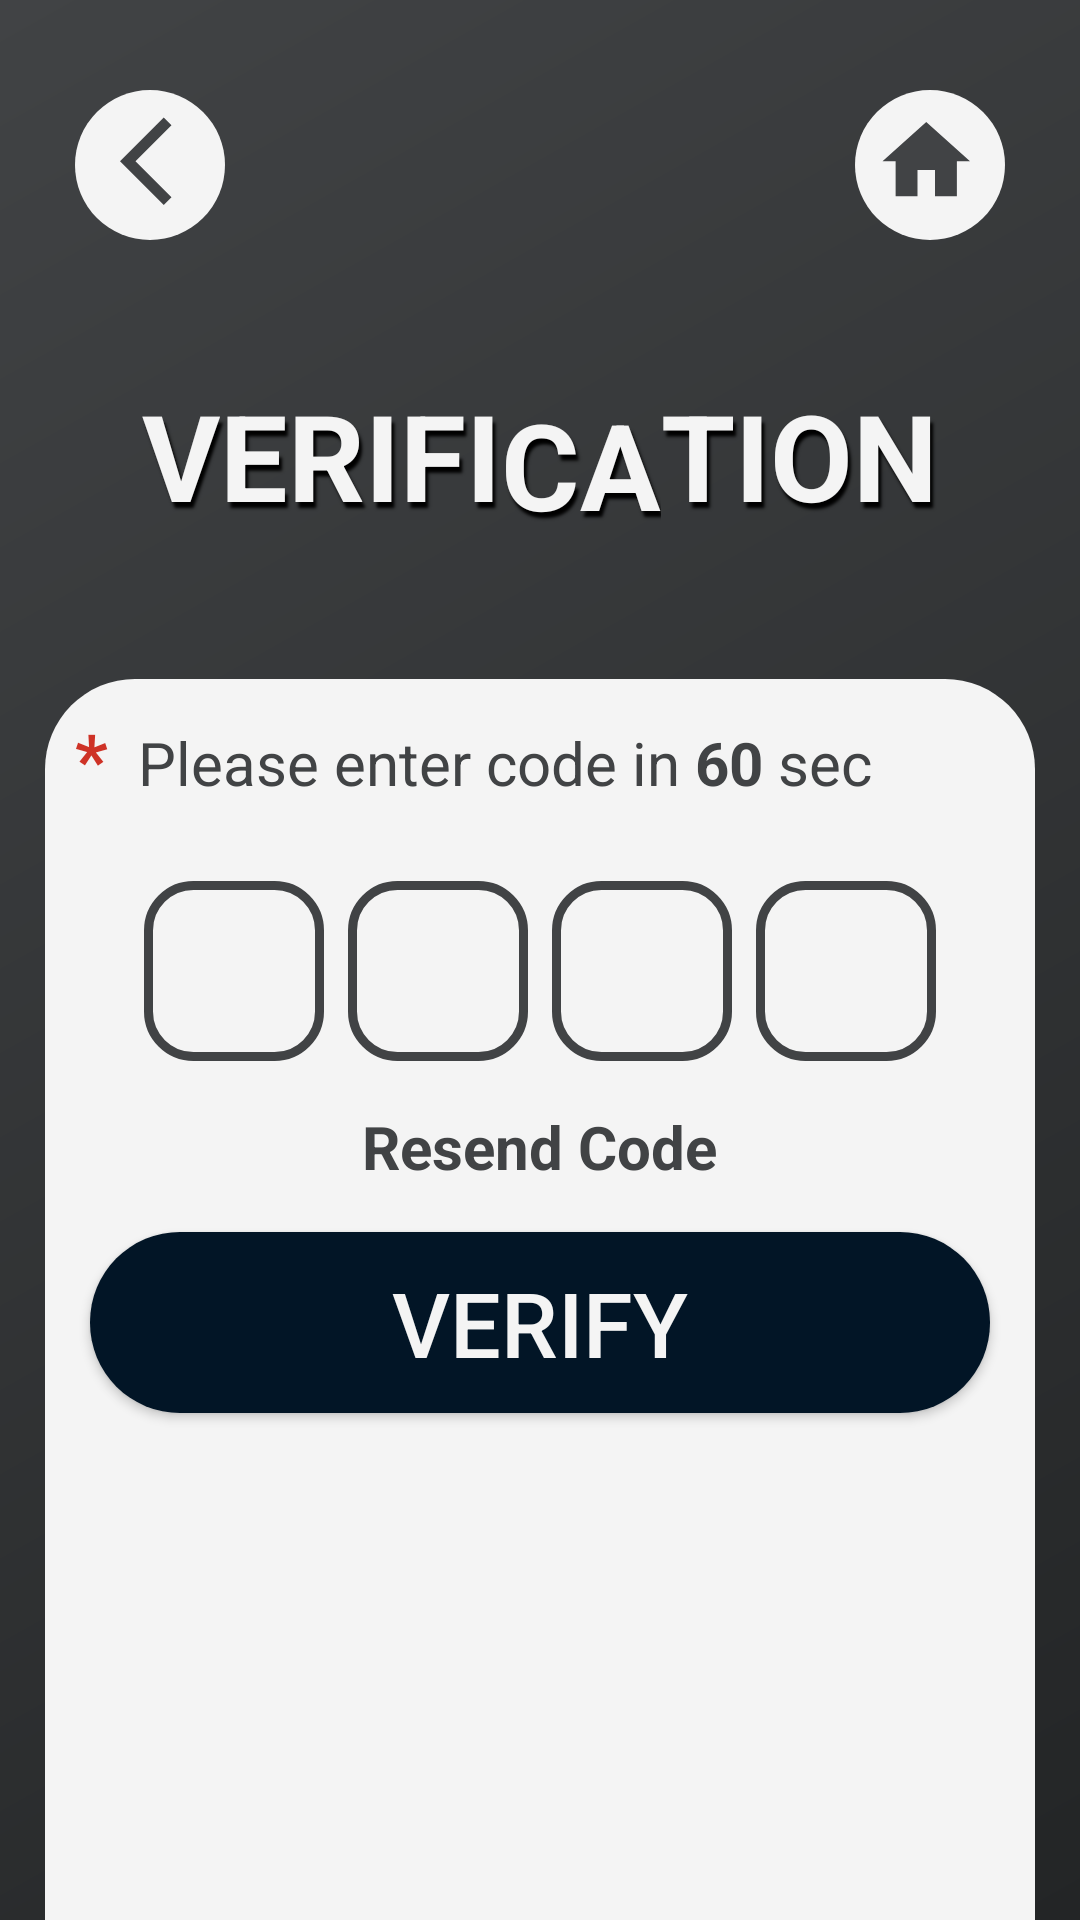

Locate icon controls on the screen. Image size 1080*1920, boxes as box(x1, y1, x2, y2).
back: box(75, 90, 225, 240)
home: box(855, 90, 1005, 240)
